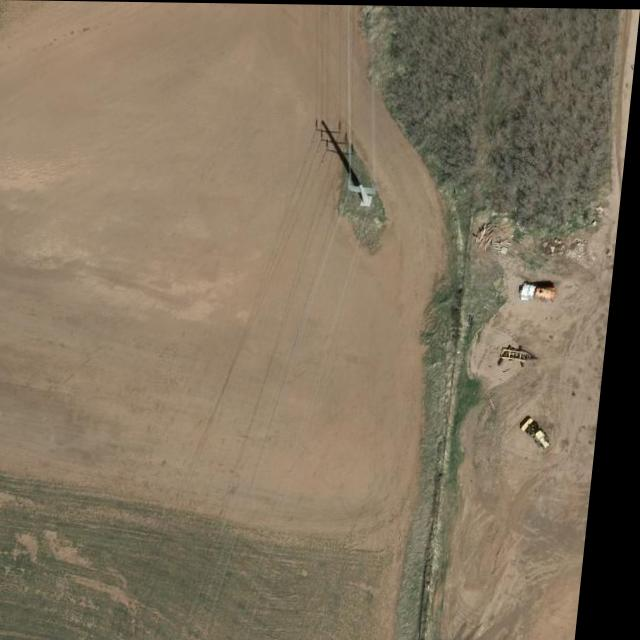vehicle: (524, 282, 565, 303)
